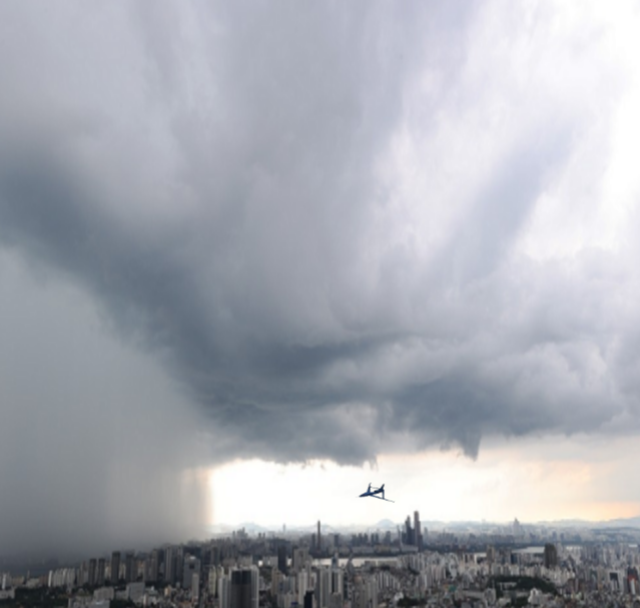military drone: (356, 482, 395, 503)
